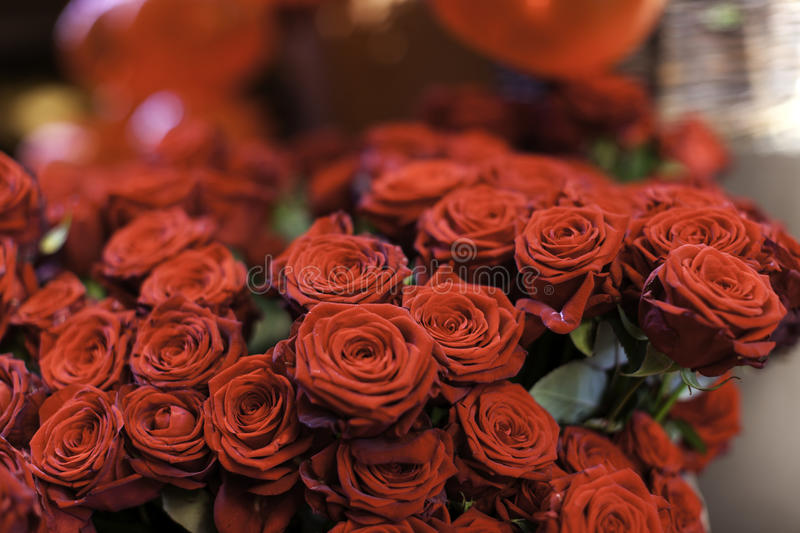RedRose: (650, 246, 769, 386), (520, 193, 628, 326), (629, 171, 742, 291), (290, 309, 426, 405), (435, 190, 560, 290), (139, 239, 250, 347), (400, 288, 523, 379), (119, 369, 207, 488), (126, 292, 236, 384), (454, 391, 555, 486), (228, 373, 308, 486), (49, 287, 127, 402), (291, 212, 383, 294), (26, 388, 106, 481), (569, 457, 660, 532), (366, 442, 436, 528), (112, 204, 188, 269), (0, 149, 57, 234), (635, 417, 686, 471), (568, 424, 624, 467), (710, 411, 742, 453)
